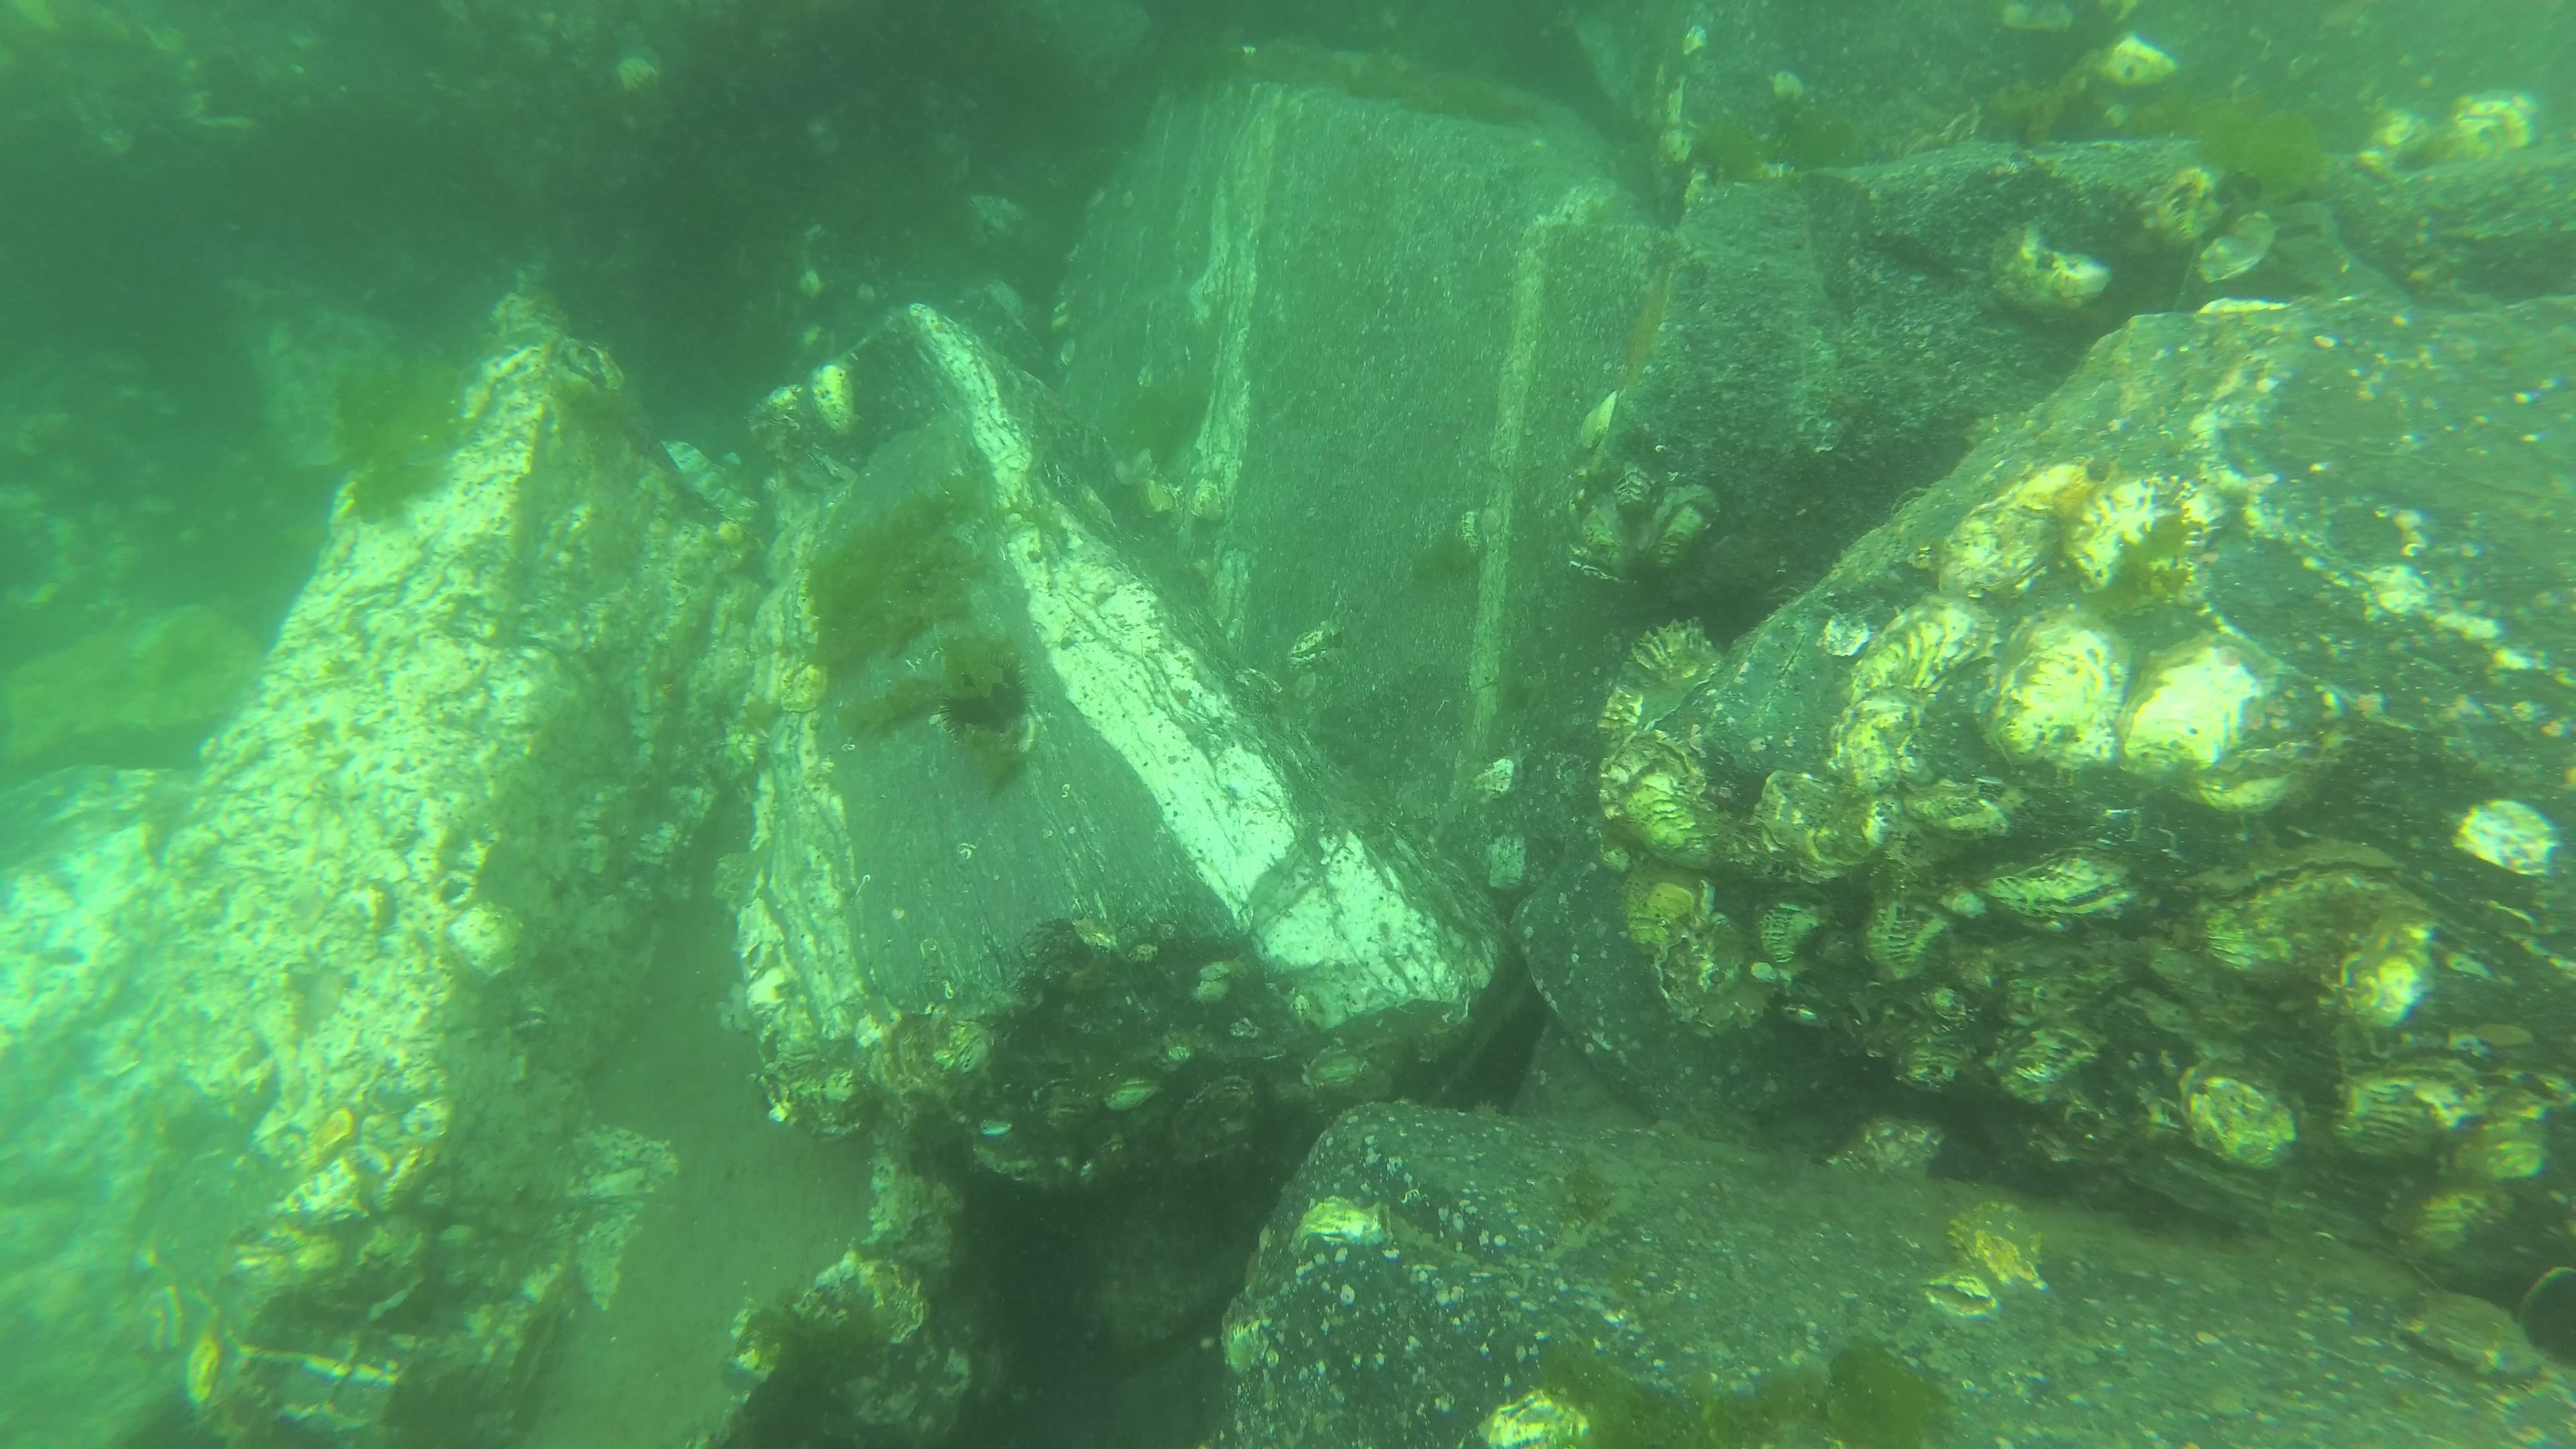echinus: (941, 660, 1040, 747)
